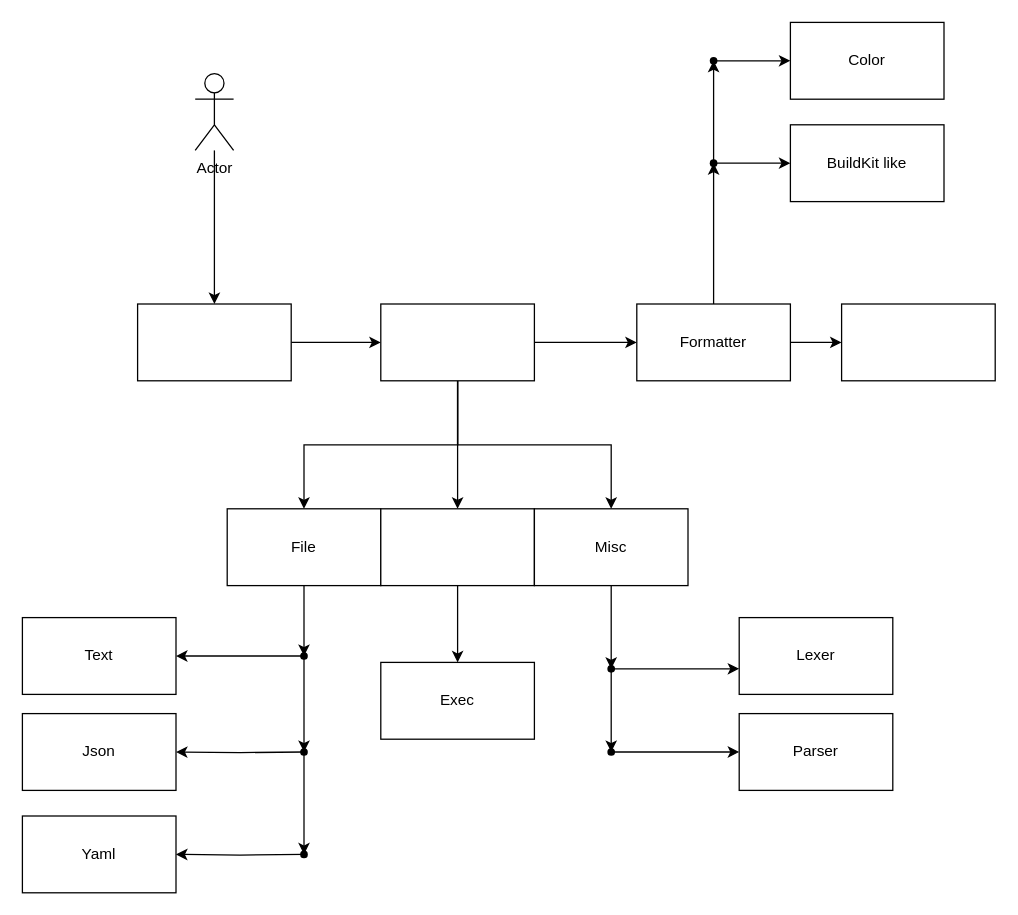
This 1018x915 diagram has some shape labels left out. The shapes that lost their labels are listed below. From the top down, each one's centre as x and y in pixels, then its label:
At point (213, 342): "Input".
At point (457, 342): "Core".
At point (917, 342): "Output".
At point (457, 547): "Command".
